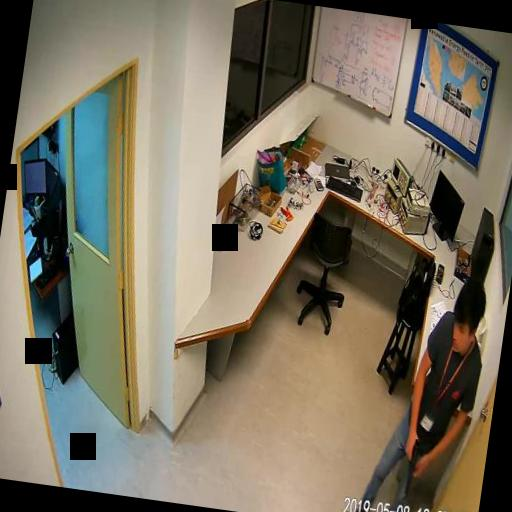Handgun: (396, 434, 424, 496)
